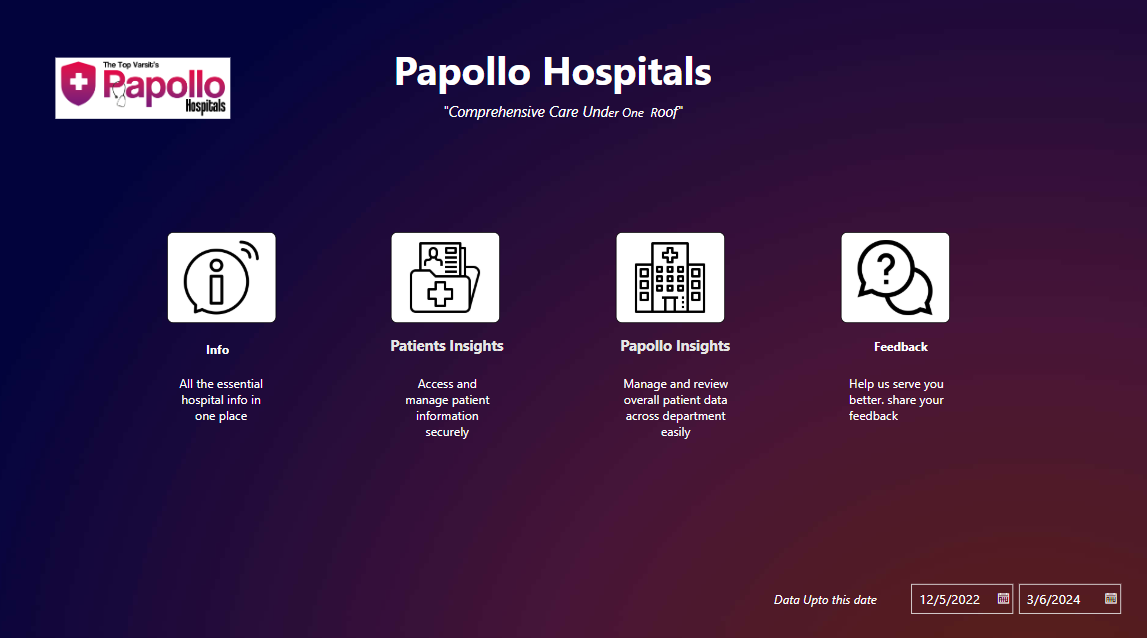

The page's visual inventory and layout, read from the dashboard file:
{"tool":"powerbi","page":{"name":"Home Page","canvas":[1280,720],"ordinal":0},"visuals":[{"type":"textbox","box":[95.7,61.4,1061.4,111.4],"z":0},{"type":"textbox","box":[457.1,125.7,350,37.1],"z":1000},{"type":"image","box":[34.3,78.6,274.3,77.1],"z":2000},{"type":"slicer","fields":{"Values":["Sheet1.Admit_Date"]},"box":[1001.4,650,250,58.6],"z":3000},{"type":"textbox","box":[858.6,664.3,154.3,28.6],"z":4000},{"type":"textbox","box":[437.1,382.9,190,51.4],"z":5000},{"type":"image","box":[197.1,274.3,120,100],"z":6000},{"type":"textbox","box":[202.9,390.3,100,37.1],"z":7000},{"type":"textbox","box":[195.7,427.1,121.4,72.9],"z":8000},{"type":"image","box":[937.1,274.3,120,100],"z":9000},{"type":"textbox","box":[934.3,386,137.1,44.3],"z":10000},{"type":"textbox","box":[941.4,427.1,122.9,72.9],"z":11000},{"type":"textbox","box":[690,382.9,190,51.4],"z":12000},{"type":"image","box":[443.8,274.3,120,100],"z":13000},{"type":"image","box":[690.5,274.3,120,100],"z":14000},{"type":"textbox","box":[444.3,427.1,121.4,87.1],"z":15000},{"type":"textbox","box":[690,427.1,131.4,82.9],"z":16000}]}

Visuals, with their boxes in screenshot pixels (x1, y1, x2, y2), scaled from the page's 1280x720 canvas onto the 1147x638 screenshot:
textbox: l=86, t=54, r=1037, b=153
textbox: l=410, t=111, r=723, b=144
image: l=31, t=70, r=277, b=138
slicer - Sheet1.Admit_Date: l=897, t=576, r=1121, b=628
textbox: l=769, t=589, r=908, b=614
textbox: l=392, t=339, r=562, b=385
image: l=177, t=243, r=284, b=332
textbox: l=182, t=346, r=271, b=379
textbox: l=175, t=378, r=284, b=443
image: l=840, t=243, r=947, b=332
textbox: l=837, t=342, r=960, b=381
textbox: l=844, t=378, r=954, b=443
textbox: l=618, t=339, r=789, b=385
image: l=398, t=243, r=505, b=332
image: l=619, t=243, r=726, b=332
textbox: l=398, t=378, r=507, b=456
textbox: l=618, t=378, r=736, b=452
